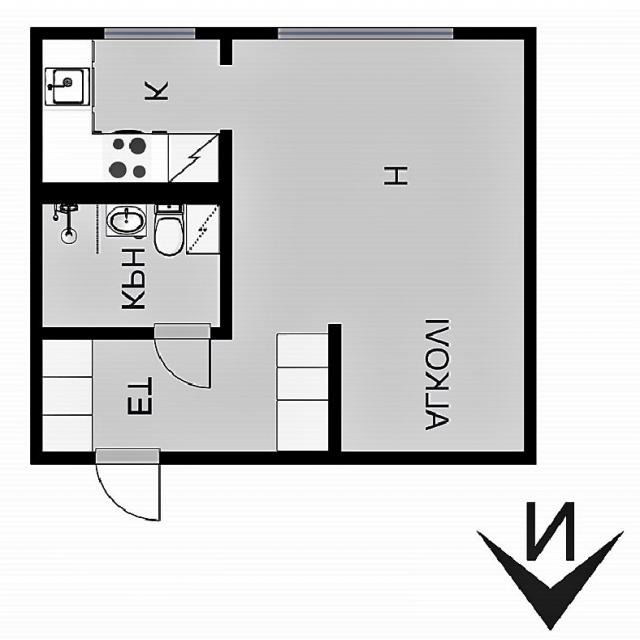door: (96, 452, 160, 527), (154, 328, 210, 394)
